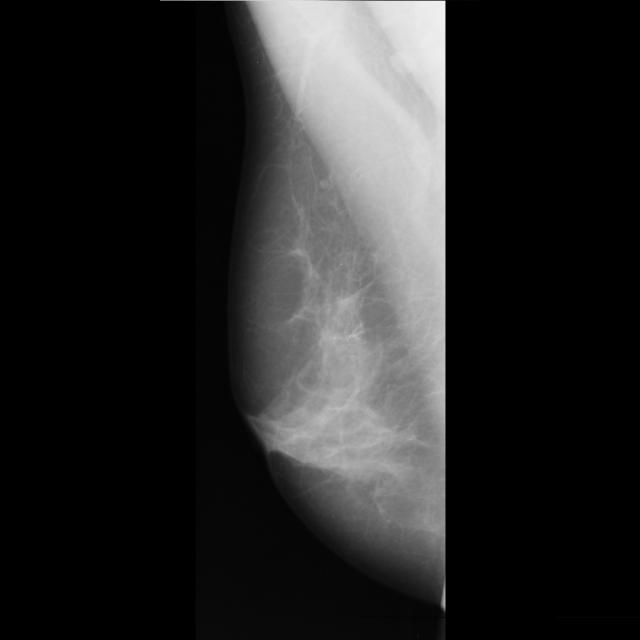CALC: (56, 0, 314, 343)
